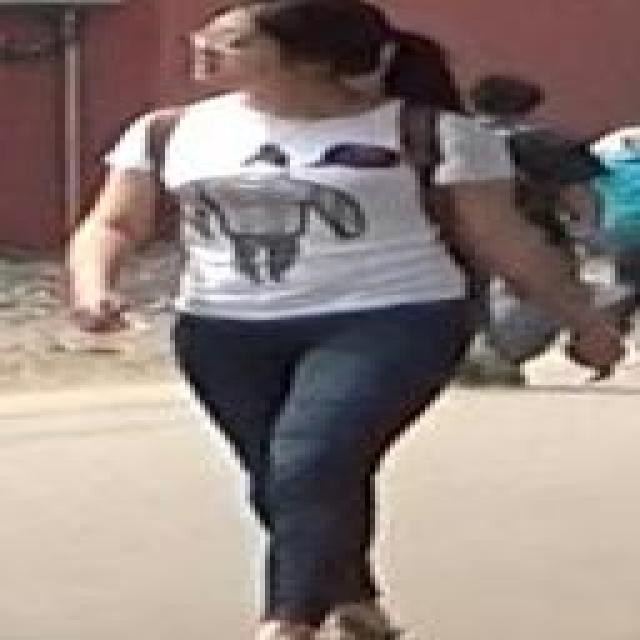adult: (57, 0, 613, 640)
